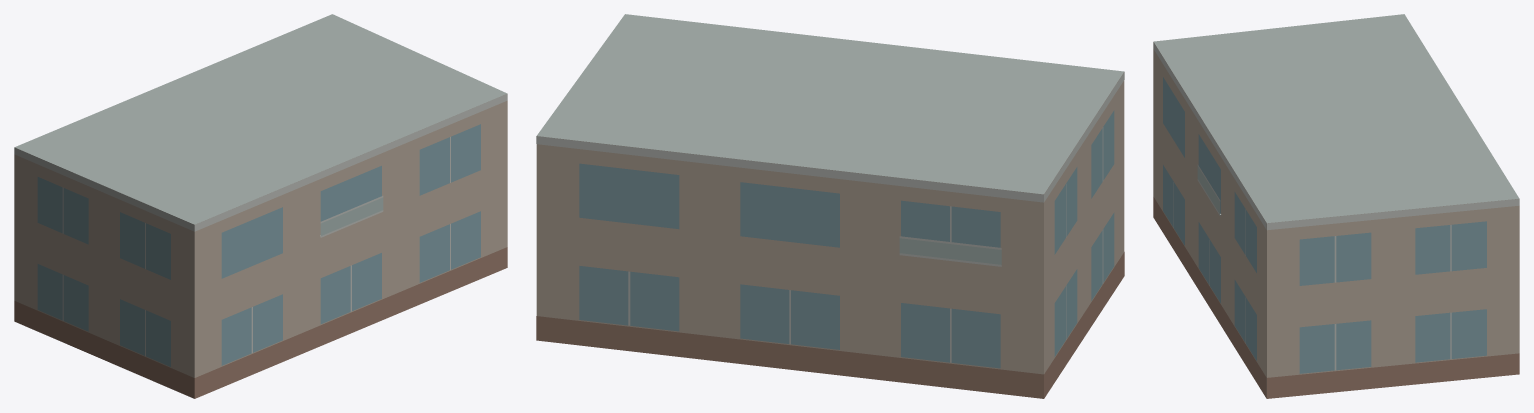
Rendered from survey-upis-32832233.glb.
3 renders of one model, left to right at view 1: azimuth 30°, elevation 25°; view 2: azimuth 150°, elevation 25°; view 3: azimuth 270°, elevation 25°, orthographic. The views are drawn at different scales.
Visible parts, largest first — view 1: survey-upis-32832233.tmp; view 2: survey-upis-32832233.tmp; view 3: survey-upis-32832233.tmp.
Part boxes in pixels (x1=…): survey-upis-32832233.tmp: x1=14, y1=14, x2=507, y2=398; survey-upis-32832233.tmp: x1=536, y1=14, x2=1124, y2=398; survey-upis-32832233.tmp: x1=1153, y1=14, x2=1519, y2=398.
Bounding box in the file's own units: 15.59 × 6.1 × 11.54.
